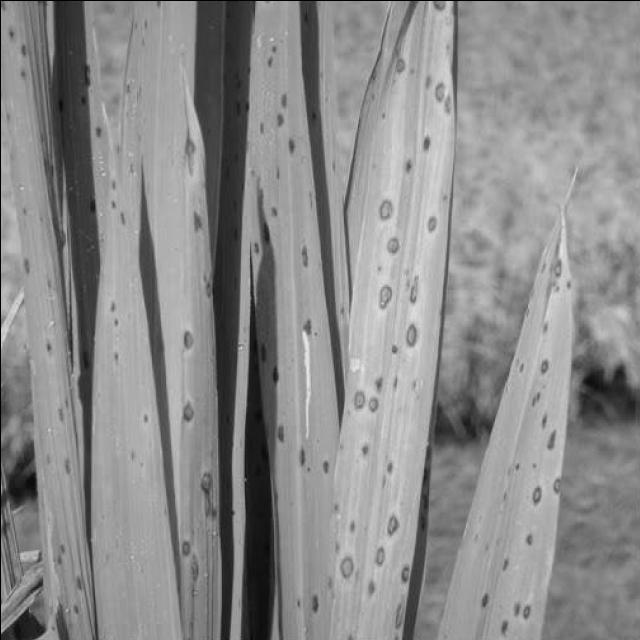Brown_Spot: (254, 85, 300, 142), (540, 250, 576, 312), (384, 562, 414, 632), (496, 594, 533, 640), (330, 550, 361, 596), (252, 184, 280, 232), (424, 77, 455, 119), (179, 193, 206, 241), (5, 235, 32, 283), (29, 328, 56, 376), (52, 446, 79, 494), (122, 419, 148, 467), (176, 139, 202, 187), (198, 260, 224, 308), (173, 316, 199, 364), (172, 392, 198, 440), (194, 474, 220, 522), (178, 541, 204, 589), (44, 528, 70, 576), (8, 42, 34, 90), (278, 125, 304, 173), (288, 238, 314, 286), (292, 306, 318, 354), (252, 340, 278, 388), (264, 410, 290, 458), (285, 439, 311, 487), (312, 445, 338, 493), (292, 586, 318, 634), (382, 51, 415, 87), (70, 56, 98, 96), (99, 296, 122, 342), (103, 185, 127, 228), (375, 513, 405, 547), (256, 36, 284, 72), (0, 5, 20, 53), (62, 576, 84, 618), (44, 398, 72, 428), (392, 154, 418, 186), (469, 587, 492, 623), (534, 428, 560, 459), (102, 342, 125, 376), (402, 276, 426, 308), (374, 286, 398, 318), (401, 318, 424, 351), (367, 546, 398, 570), (520, 484, 544, 515), (376, 458, 399, 490), (414, 124, 437, 156), (419, 206, 442, 238), (377, 230, 400, 262), (372, 192, 395, 224), (352, 393, 374, 425), (512, 527, 538, 550), (494, 555, 513, 581), (422, 0, 449, 18), (405, 374, 424, 396), (88, 124, 104, 148), (353, 444, 373, 462), (538, 354, 548, 384), (388, 372, 398, 396), (366, 578, 374, 608), (513, 361, 527, 378), (512, 458, 520, 478), (340, 631, 356, 640)
